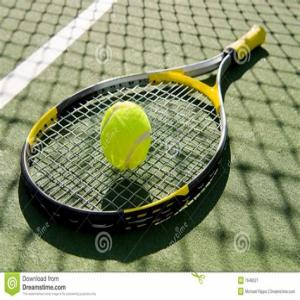Tennis: (100, 99, 150, 174)
